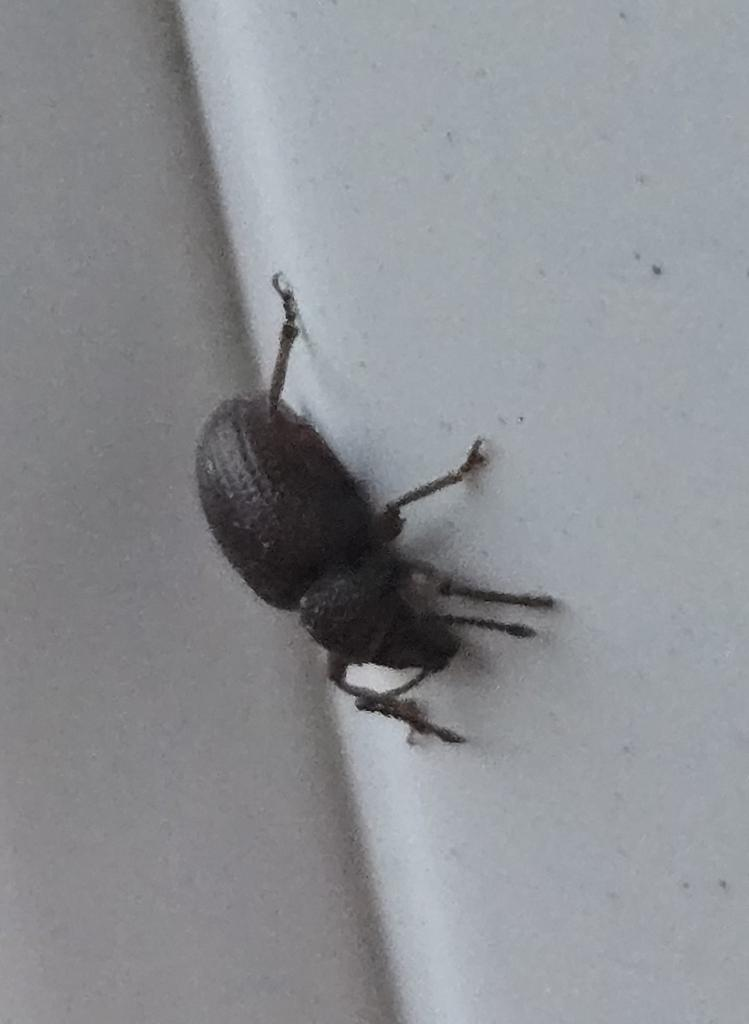weevils: (90, 244, 631, 811)
